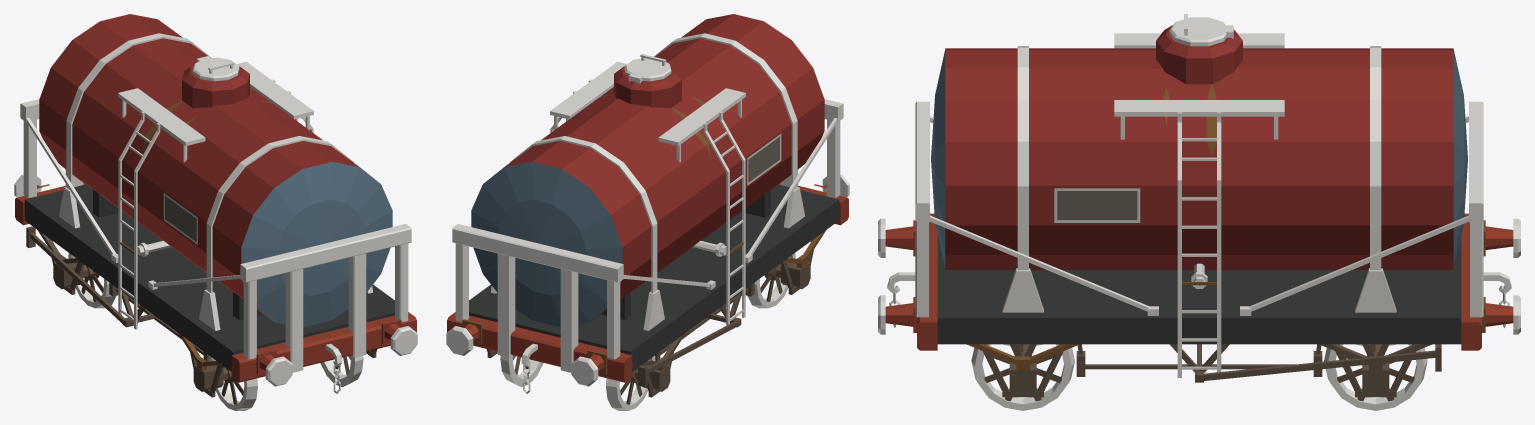
File: tank-wagon-d860fa.glb
The picture shows the model from 3 angles, left to right: view 1: azimuth 30°, elevation 25°; view 2: azimuth 150°, elevation 25°; view 3: azimuth 270°, elevation 25°; orthographic projection. The views are drawn at different scales.
Parts seen in each view (by area): view 1: body, body-steel, wheel-1-tyres, lid-plate, wheel-2-tyres, wheel-1-set; view 2: body, body-steel, wheel-2-tyres, lid-plate, wheel-1-tyres, wheel-2-set, wheel-1-set; view 3: body, body-steel, wheel-1-tyres, wheel-2-tyres, lid-plate, wheel-1-set, wheel-2-set.
Boxes of the visible parts, x1,y1,x2,y2 form: body: [15, 14, 416, 397]; body-steel: [14, 33, 417, 393]; wheel-1-tyres: [208, 355, 363, 410]; lid-plate: [192, 57, 239, 81]; wheel-2-tyres: [68, 253, 116, 308]; wheel-1-set: [221, 355, 350, 404]; body: [447, 14, 848, 397]; body-steel: [446, 33, 849, 393]; wheel-2-tyres: [500, 355, 655, 410]; lid-plate: [624, 54, 671, 81]; wheel-1-tyres: [747, 253, 795, 308]; wheel-2-set: [513, 355, 642, 404]; wheel-1-set: [760, 263, 782, 302]; body: [885, 25, 1513, 397]; body-steel: [878, 25, 1520, 377]; wheel-1-tyres: [971, 344, 1074, 410]; wheel-2-tyres: [1324, 344, 1427, 410]; lid-plate: [1169, 14, 1227, 46]; wheel-1-set: [984, 344, 1061, 401]; wheel-2-set: [1337, 344, 1414, 401].
Size of the model in its own units: 2.62 by 3.79 by 6.2.
